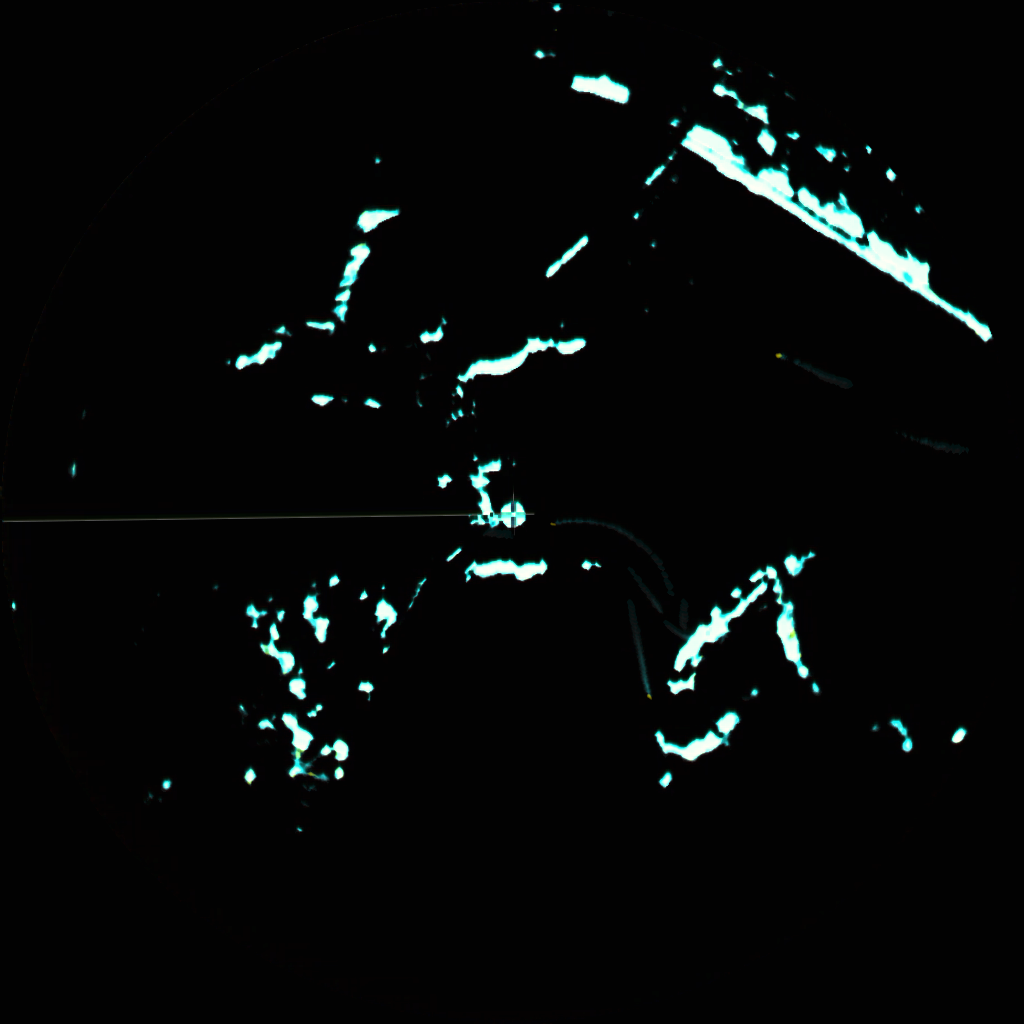B: (774, 349, 833, 380), (548, 515, 621, 539), (636, 648, 655, 701)
